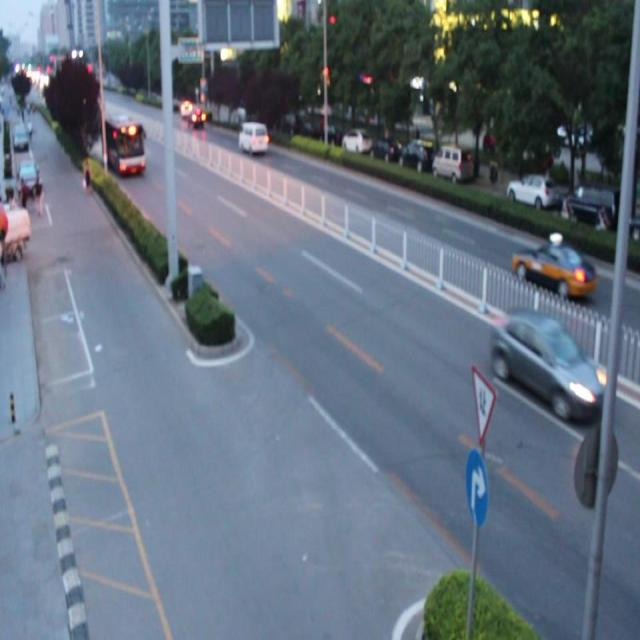car: (490, 308, 608, 422), (511, 236, 595, 300)
truck: (238, 122, 267, 154)
van: (100, 112, 145, 176)
